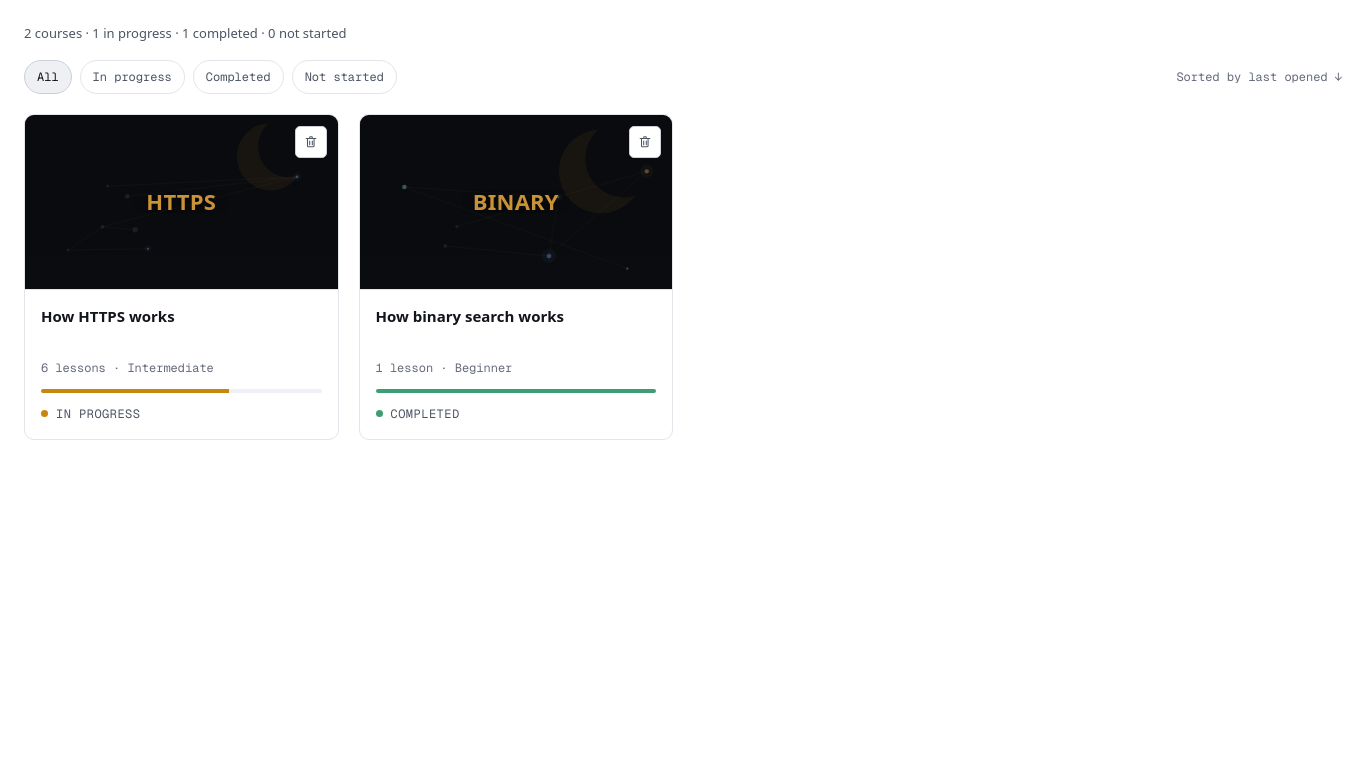
CourseLibrary › deletes a course from its card: confirm dialog → DELETE → the card leaves the grid
This screenshot has width=1366, height=768.
Expected: the link "HTTPS How HTTPS works 6 lessons · Intermediate IN PROGRESS" is shown, left=24, top=114, right=338, bottom=440
// Act — open the card's delete affordance, then confirm in the dialog.
Click the button named "delete course: how https works" at (310, 142), box left=294, top=126, right=326, bottom=158
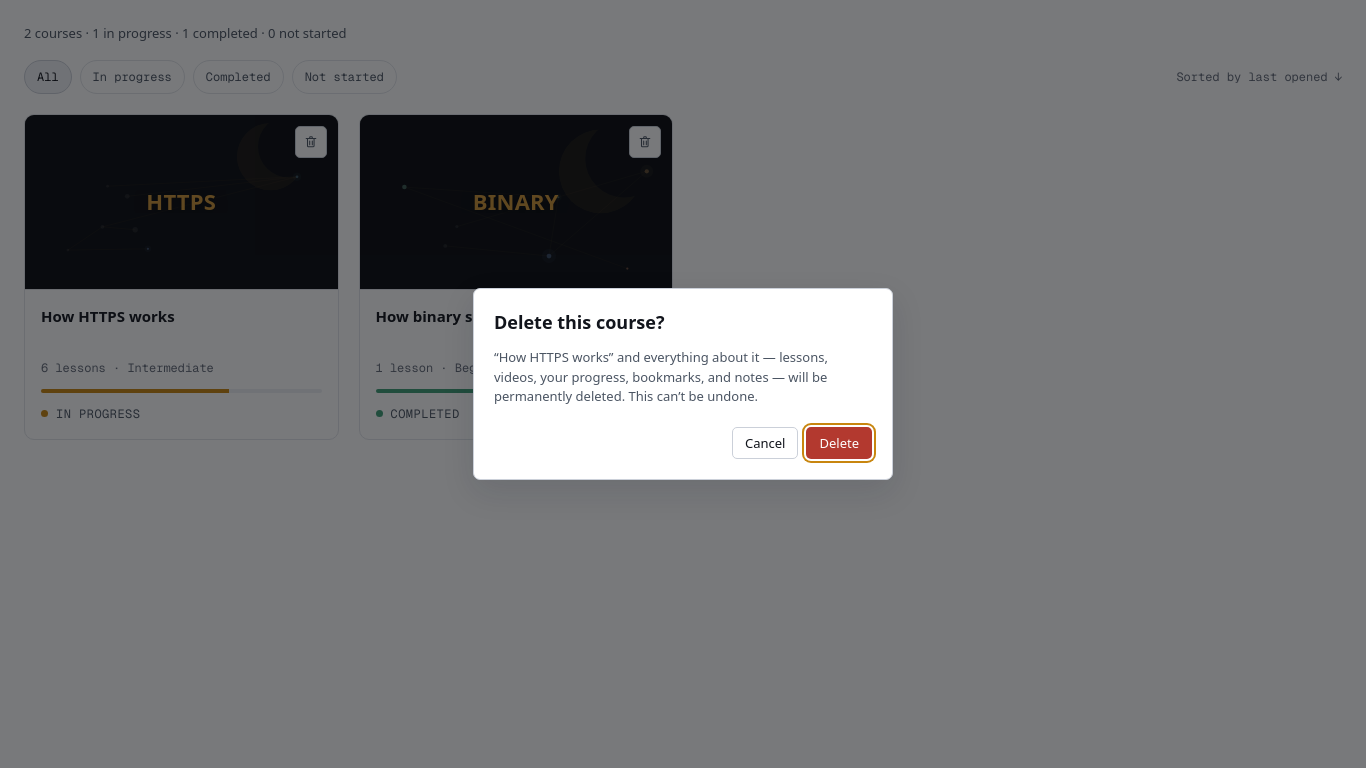
Expected: the text "How HTTPS works" is shown, left=494, top=348, right=828, bottom=405
Click the button "Delete" at (839, 443), box left=806, top=427, right=872, bottom=459
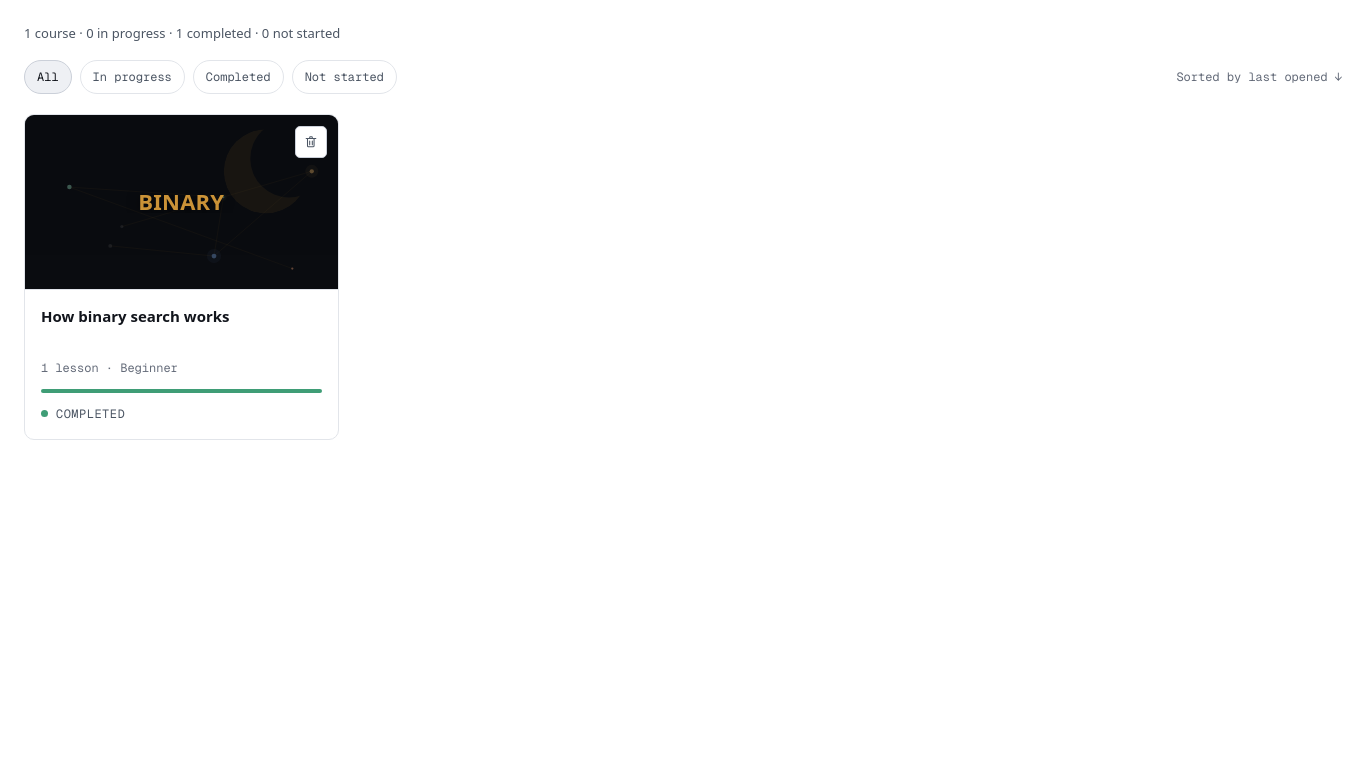
Expected: the link "binary How binary search works 1 lesson · Beginner COMPLETED" is shown, left=24, top=114, right=338, bottom=440
Expected: the link "How HTTPS works" is gone
